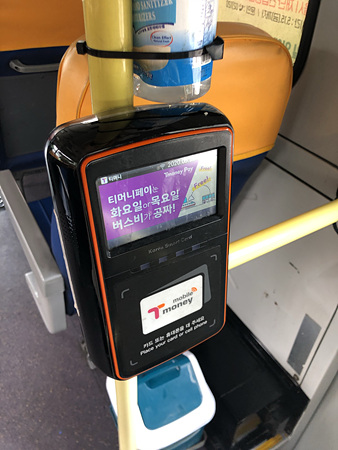terminal: (52, 99, 226, 373)
